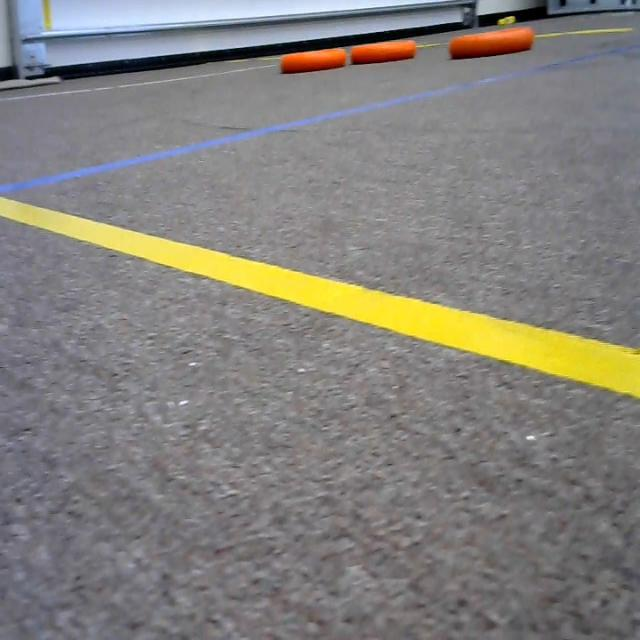note: (274, 34, 349, 74), (442, 27, 544, 56), (344, 34, 422, 69)
